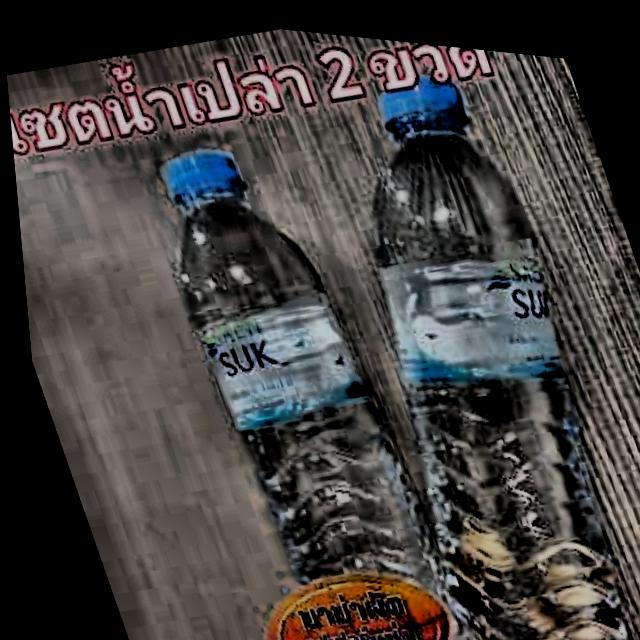Bottles: (283, 33, 640, 640), (89, 97, 469, 640)
